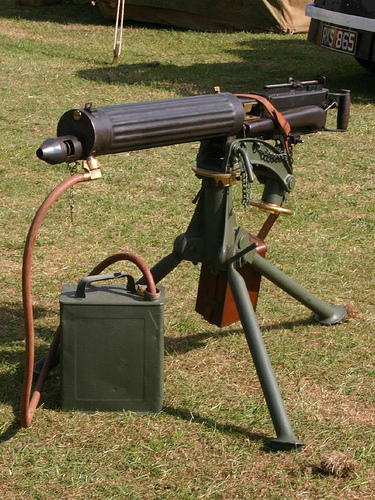rifle: (20, 72, 346, 407)
